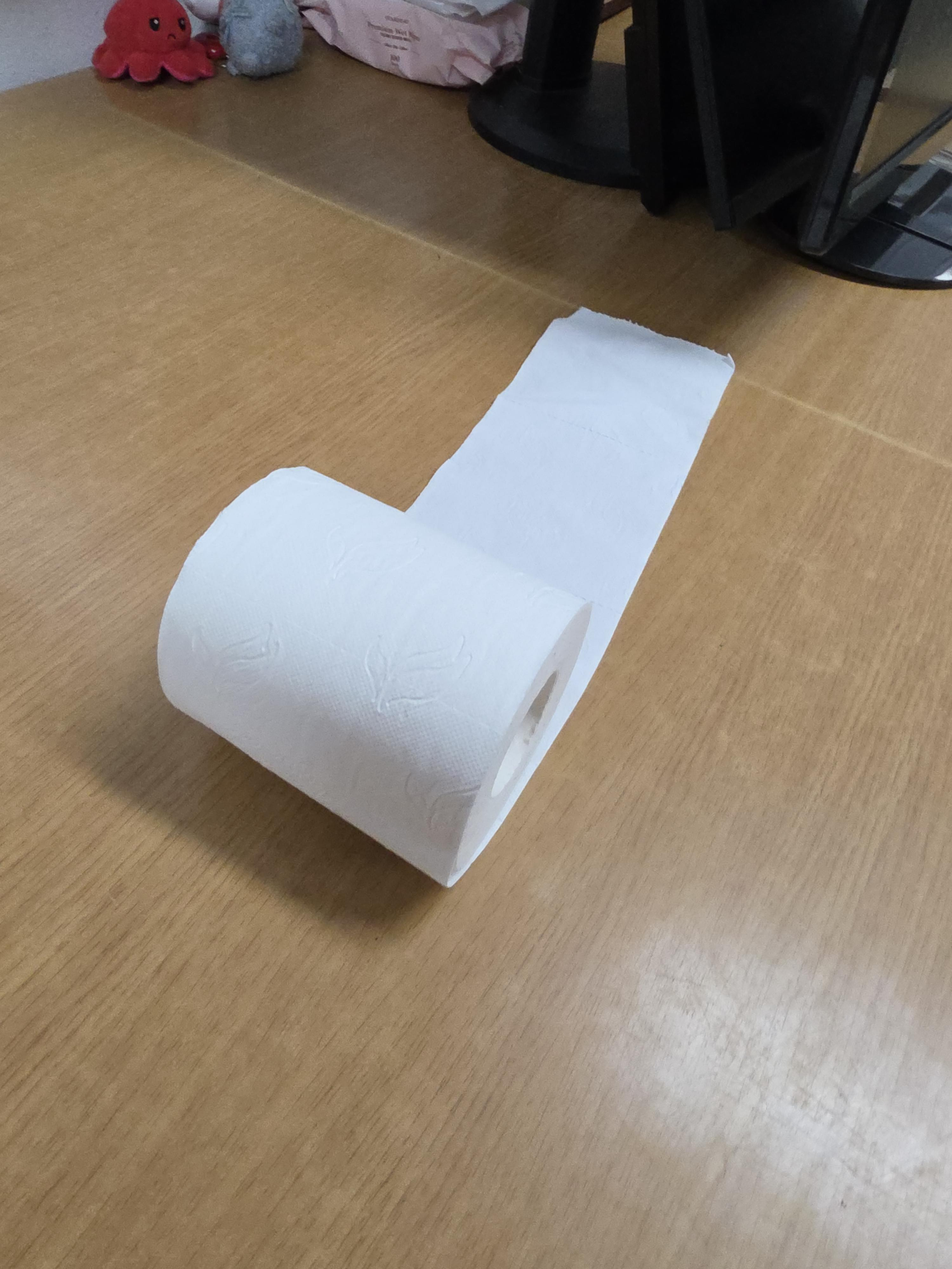tissue: (156, 306, 737, 890)
